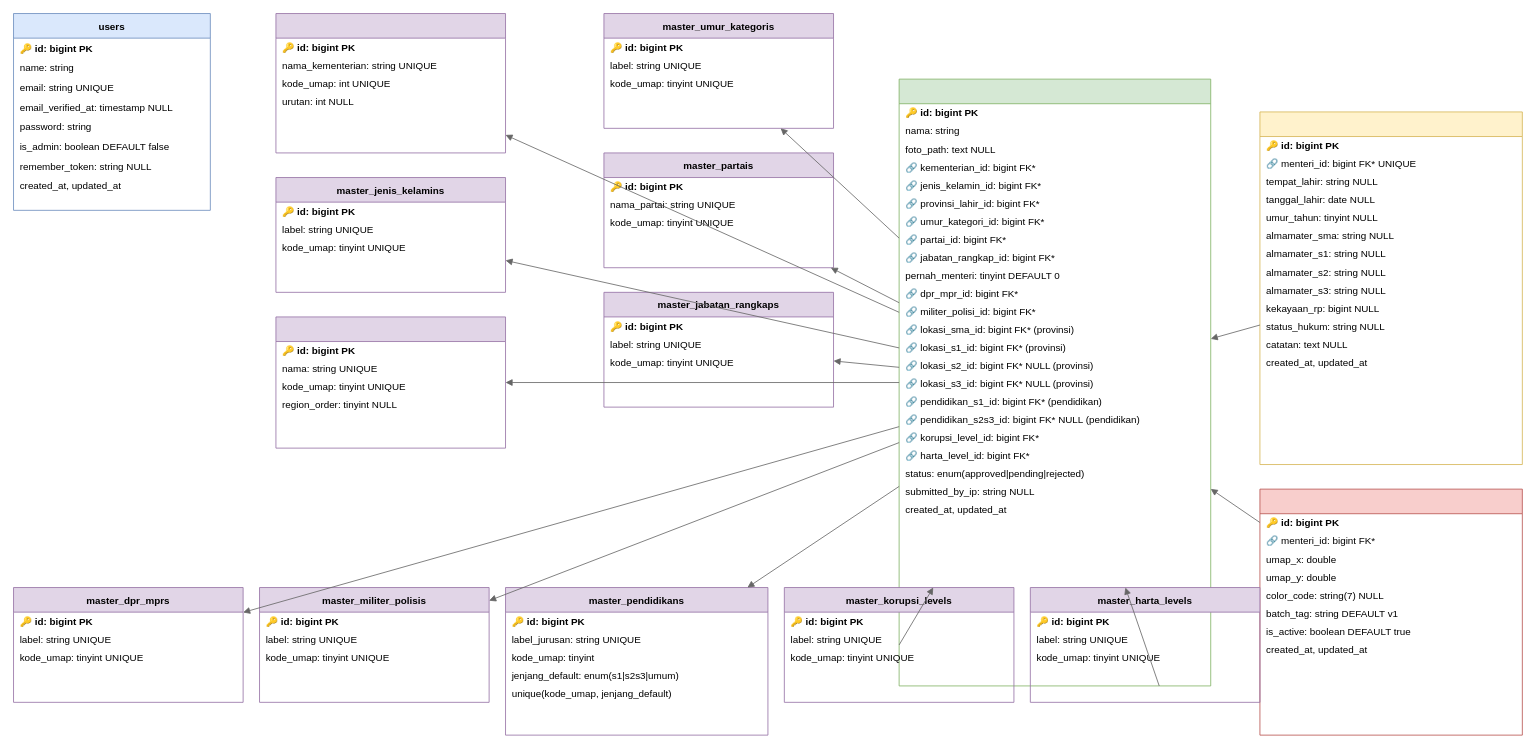
The diagram is 1536 pixels wide and 749 high, and some of its shapes have lost their labels. The shapes that lost their labels are listed below. From the top down, each one's box as (x1, y1, x2, y2) in pixels, then its label:
(275, 13, 506, 153): master_kementerians
(1259, 111, 1522, 465): detail_menteris
(275, 316, 506, 448): master_provinsis
(898, 78, 1211, 686): menteris
(1259, 488, 1522, 735): umap_embeddings
